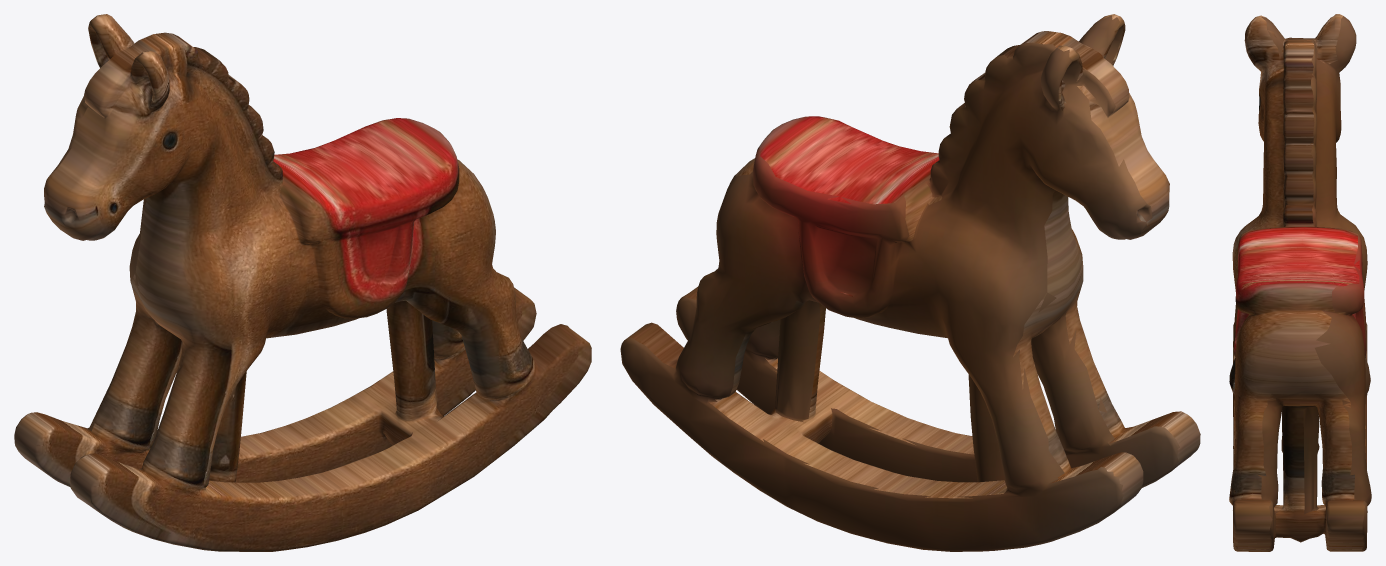
Rendered from rocking_horse.glb.
3 renders of one model, left to right at view 1: azimuth 30°, elevation 25°; view 2: azimuth 150°, elevation 25°; view 3: azimuth 270°, elevation 25°, orthographic. The views are drawn at different scales.
Visible parts, largest first — view 1: rocking_horse; view 2: rocking_horse; view 3: rocking_horse.
Boxes of the visible parts, <box> form: rocking_horse: <box>14,14,591,551</box>; rocking_horse: <box>620,14,1200,551</box>; rocking_horse: <box>1229,14,1371,551</box>.
Size of the model in its own units: 6 by 5.98 by 1.77.
Materials: 1 (1 with a texture image).
